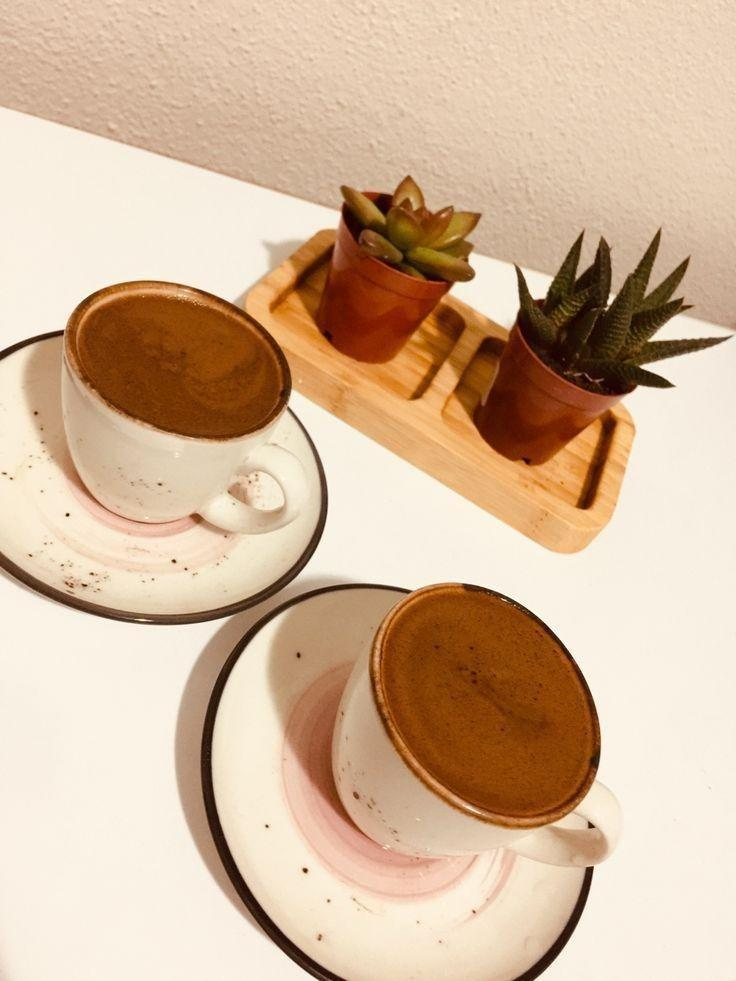cup-handle: (327, 580, 626, 868), (59, 278, 311, 539)
